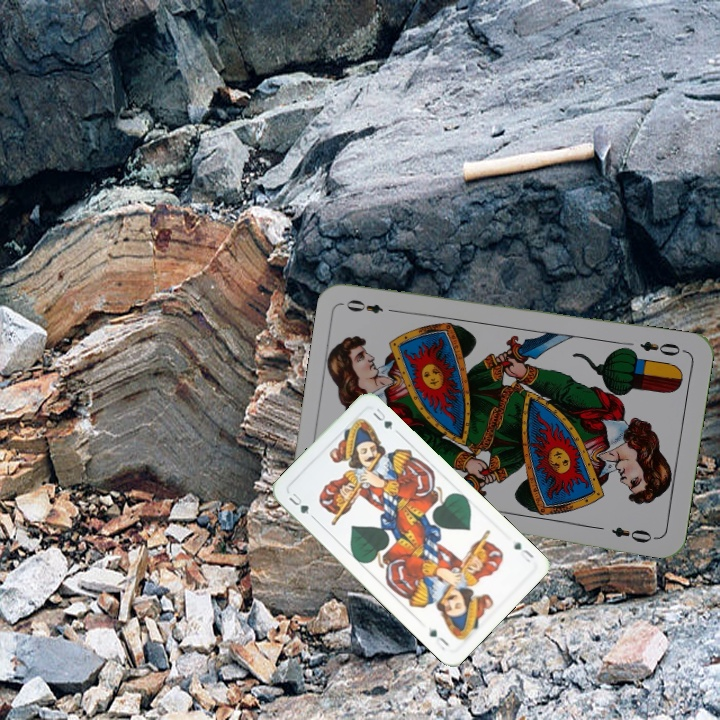EO: (636, 336, 688, 359)
GU: (284, 489, 317, 521), (510, 537, 536, 565)
